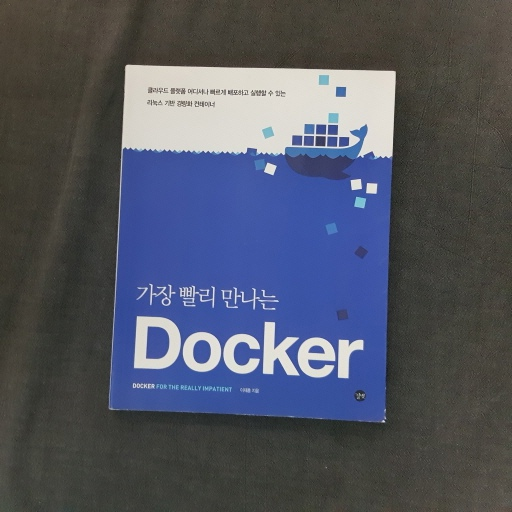Paper_0: (105, 56, 404, 431)
